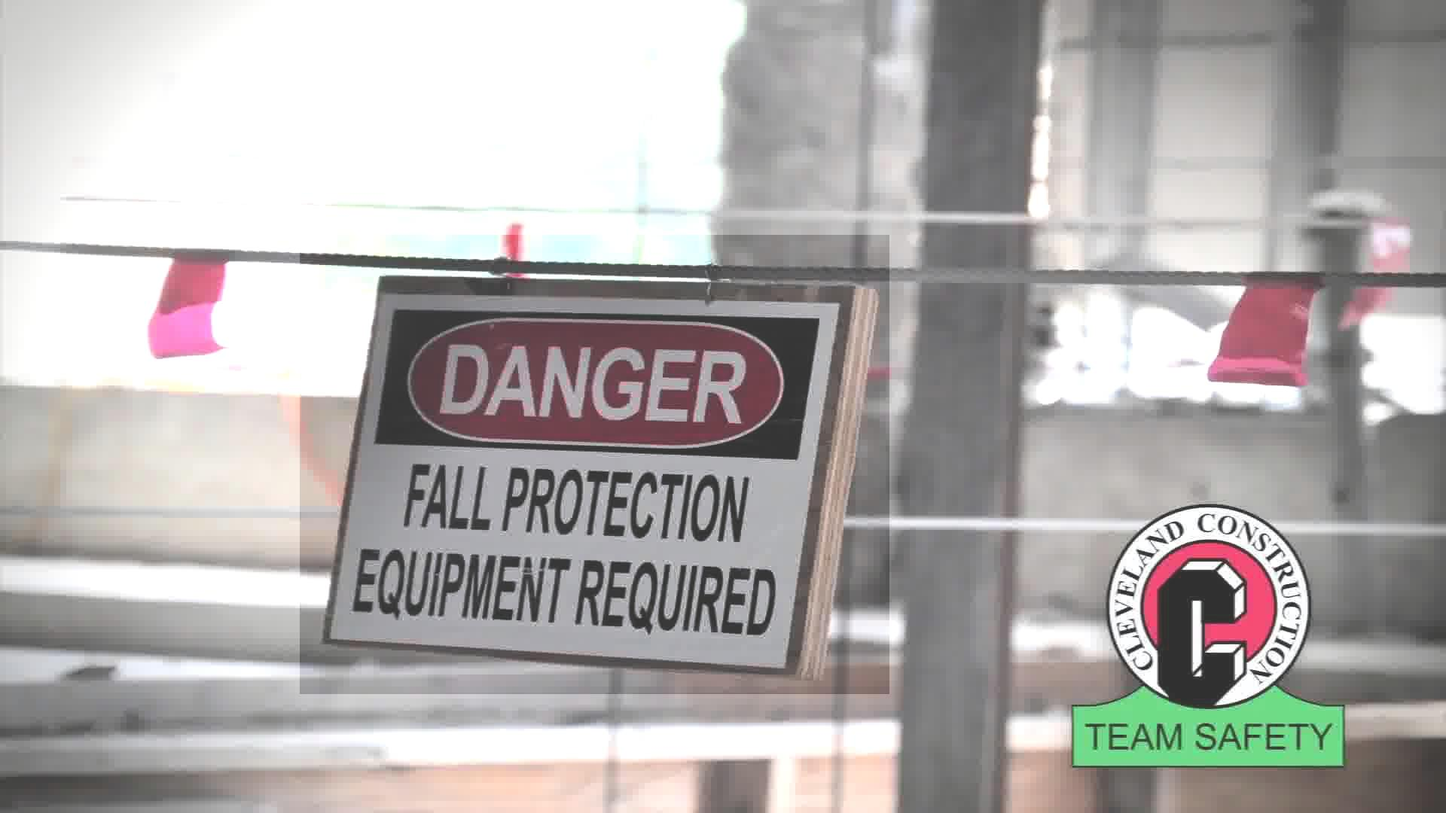safety_signage: (300, 235, 889, 694)
